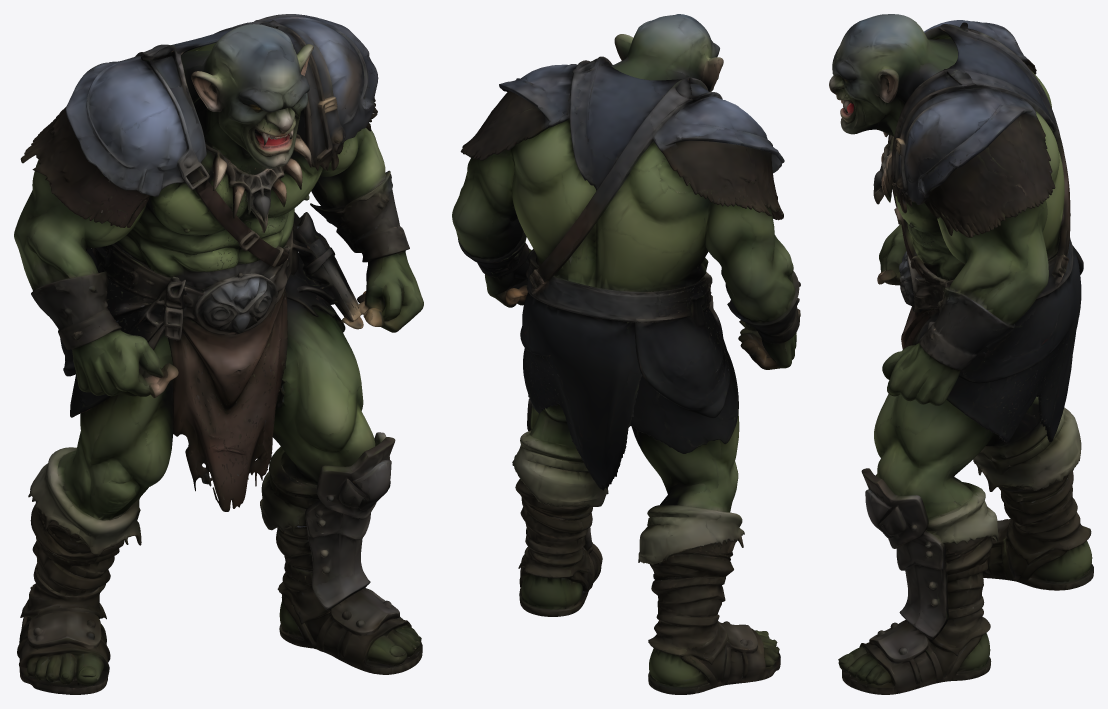
Rendered from orc.glb.
3 views of the same model, side by side, from view 1: azimuth 30°, elevation 25°; view 2: azimuth 150°, elevation 25°; view 3: azimuth 270°, elevation 25° (orthographic). The views are drawn at different scales.
Parts seen in each view (by area): view 1: material; view 2: material; view 3: material.
Part boxes in pixels (<box>): material: <box>14,14,423,694</box>; material: <box>452,14,800,694</box>; material: <box>829,14,1093,694</box>.
Bounding box in the file's own units: 0.6071 × 1.05 × 0.4142.
Materials: 1 (1 with a texture image).
